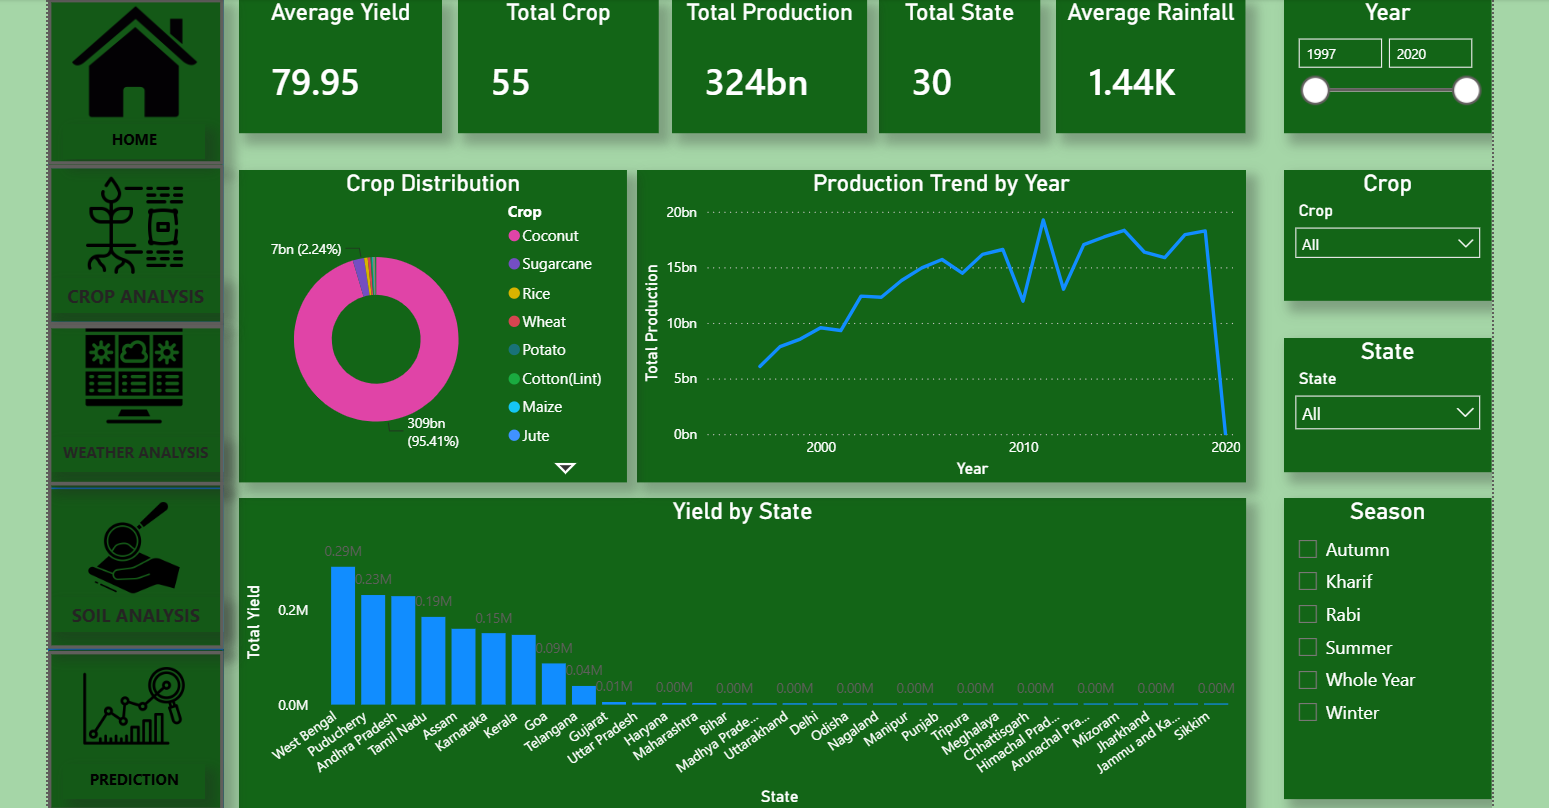

The page's visual inventory and layout, read from the dashboard file:
{"tool":"powerbi","page":{"name":"Home","canvas":[1280,720],"ordinal":0},"visuals":[{"type":"cardVisual","title":"Average Yield","fields":{"Data":["final_df.Average Yield"]},"box":[169.2,0,179.9,118.7],"z":0},{"type":"cardVisual","title":"Average Rainfall","fields":{"Data":["final_df.Average Rainfall"]},"box":[893.9,0,168.3,118.7],"z":1000},{"type":"cardVisual","title":"Total State","fields":{"Data":["final_df.Total State"]},"box":[737.3,0,143,118.7],"z":2000},{"type":"cardVisual","title":"Total Crop","fields":{"Data":["final_df.Total Crop"]},"box":[363.8,0,178,118.7],"z":3000},{"type":"cardVisual","title":"Total Production","fields":{"Data":["final_df.Total Production"]},"box":[553.4,0,173.1,118.7],"z":4000},{"type":"slicer","title":"Crop","fields":{"Values":["final_df.Crop"]},"box":[1096.2,151.7,183.8,115.7],"z":5000},{"type":"clusteredColumnChart","title":"Yield by State","fields":{"Y":["Sum(final_df.Yield)"],"Category":["final_df.State"]},"box":[169.2,442.6,892.9,277.2],"z":6000},{"type":"slicer","title":"State","fields":{"Values":["final_df.State"]},"box":[1096.2,300.5,183.8,118.7],"z":7000},{"type":"slicer","title":"Year","fields":{"Values":["final_df.Year"]},"box":[1096.2,0,183.8,118.7],"z":8000},{"type":"slicer","title":"Season","fields":{"Values":["final_df.Season"]},"box":[1096.2,442.6,183.8,266.5],"z":9000},{"type":"lineChart","title":"Production Trend by Year","fields":{"Category":["final_df.Year"],"Y":["Sum(final_df.Production)"]},"box":[522.3,151.7,539.8,277.2],"z":10000},{"type":"donutChart","title":"Crop Distribution","fields":{"Category":["final_df.Crop"],"Y":["Sum(final_df.Production)"]},"box":[169.2,151.7,344.3,277.2],"z":11000},{"type":"shape","box":[0,0,155.6,148.8],"z":12000},{"type":"shape","box":[0,148.8,155.6,138.1],"z":13000},{"type":"shape","box":[0,286.9,155.6,146.9],"z":14000},{"type":"shape","box":[0,433.8,155.6,143],"z":15000},{"type":"shape","box":[0,576.8,155.6,143],"z":16000},{"type":"image","box":[13.6,0,127.4,110.9],"z":17000},{"type":"image","box":[13.6,151.7,126.4,95.3],"z":18000},{"type":"image","box":[13.6,286.9,126.4,92.4],"z":19000},{"type":"image","box":[13.6,442.6,126.4,87.5],"z":20000},{"type":"image","box":[13.6,581.6,126.4,90.5],"z":21000},{"type":"textbox","box":[13.6,110.9,126.4,31.1],"z":22000},{"type":"textbox","box":[13.6,677.9,126.4,31.1],"z":23000},{"type":"textbox","box":[0,247.1,155.6,31.1],"z":24000},{"type":"textbox","box":[0,530.1,155.6,31.1],"z":25000},{"type":"textbox","box":[0,388.1,155.6,31.1],"z":26000},{"type":"actionButton","box":[0,0,155.6,146.9],"z":27000},{"type":"actionButton","box":[0,146.9,155.6,142],"z":28000},{"type":"actionButton","box":[0,288.9,155.6,142],"z":29000},{"type":"actionButton","box":[0,428,155.6,147.8],"z":30000},{"type":"actionButton","box":[0,577.8,155.6,142],"z":31000}]}

Visuals, with their boxes on the page's 1280x720 design canvas (x1, y1, x2, y2). These are canvas units, not pixel positions in the 1549x808 screenshot, which may show the page scaled, cropped or inside an application window:
"Average Yield" cardVisual: pyautogui.locateOnScreen(169, 0, 349, 119)
"Average Rainfall" cardVisual: pyautogui.locateOnScreen(894, 0, 1062, 119)
"Total State" cardVisual: pyautogui.locateOnScreen(737, 0, 880, 119)
"Total Crop" cardVisual: pyautogui.locateOnScreen(364, 0, 542, 119)
"Total Production" cardVisual: pyautogui.locateOnScreen(553, 0, 726, 119)
"Crop" slicer: pyautogui.locateOnScreen(1096, 152, 1280, 267)
"Yield by State" clusteredColumnChart: pyautogui.locateOnScreen(169, 443, 1062, 720)
"State" slicer: pyautogui.locateOnScreen(1096, 300, 1280, 419)
"Year" slicer: pyautogui.locateOnScreen(1096, 0, 1280, 119)
"Season" slicer: pyautogui.locateOnScreen(1096, 443, 1280, 709)
"Production Trend by Year" lineChart: pyautogui.locateOnScreen(522, 152, 1062, 429)
"Crop Distribution" donutChart: pyautogui.locateOnScreen(169, 152, 514, 429)
shape: pyautogui.locateOnScreen(0, 0, 156, 149)
shape: pyautogui.locateOnScreen(0, 149, 156, 287)
shape: pyautogui.locateOnScreen(0, 287, 156, 434)
shape: pyautogui.locateOnScreen(0, 434, 156, 577)
shape: pyautogui.locateOnScreen(0, 577, 156, 720)
image: pyautogui.locateOnScreen(14, 0, 141, 111)
image: pyautogui.locateOnScreen(14, 152, 140, 247)
image: pyautogui.locateOnScreen(14, 287, 140, 379)
image: pyautogui.locateOnScreen(14, 443, 140, 530)
image: pyautogui.locateOnScreen(14, 582, 140, 672)
textbox: pyautogui.locateOnScreen(14, 111, 140, 142)
textbox: pyautogui.locateOnScreen(14, 678, 140, 709)
textbox: pyautogui.locateOnScreen(0, 247, 156, 278)
textbox: pyautogui.locateOnScreen(0, 530, 156, 561)
textbox: pyautogui.locateOnScreen(0, 388, 156, 419)
actionButton: pyautogui.locateOnScreen(0, 0, 156, 147)
actionButton: pyautogui.locateOnScreen(0, 147, 156, 289)
actionButton: pyautogui.locateOnScreen(0, 289, 156, 431)
actionButton: pyautogui.locateOnScreen(0, 428, 156, 576)
actionButton: pyautogui.locateOnScreen(0, 578, 156, 720)
